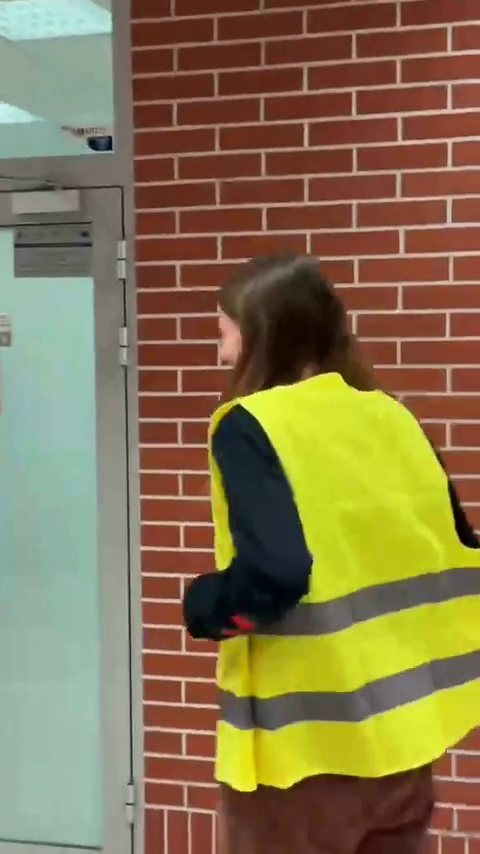vest: (188, 243, 474, 853)
